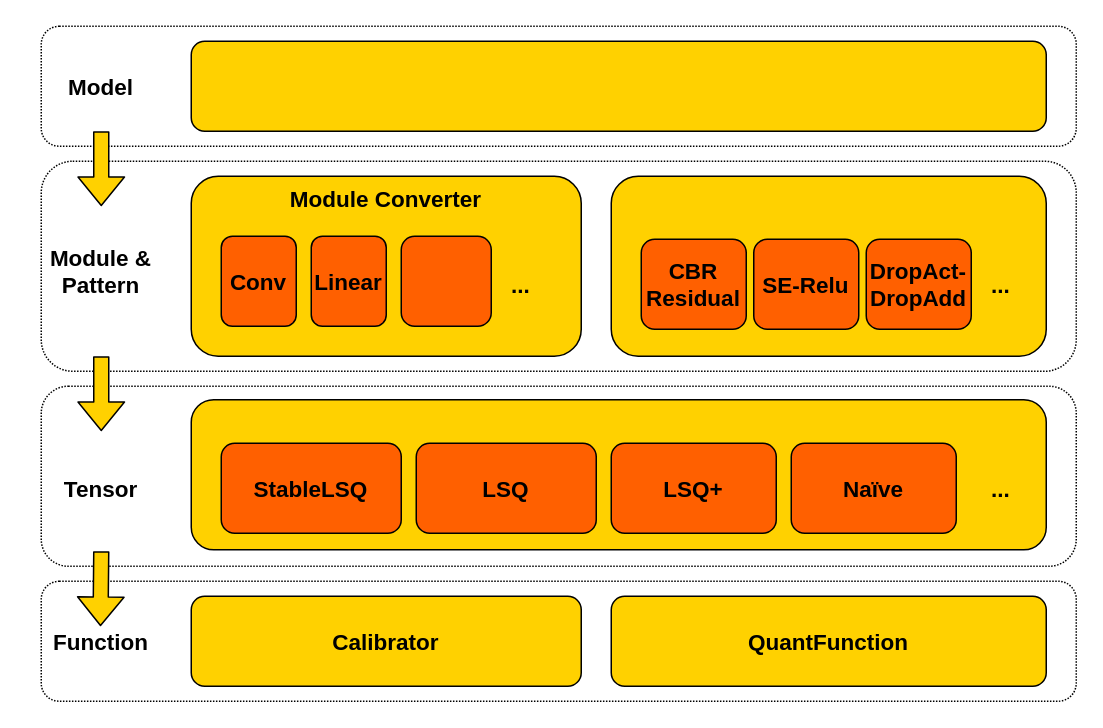
Some shapes in this 1103 by 728 pixel diagram are drawn without their labels. Here are the shapes that lost their labels. From the top down, the box of each, then its label:
(190, 40, 1046, 131): Model Quantizer
(400, 235, 491, 326): Pooling
(610, 175, 1046, 356): Pattern Matcher
(190, 398, 1046, 550): Tensor Quantizer
